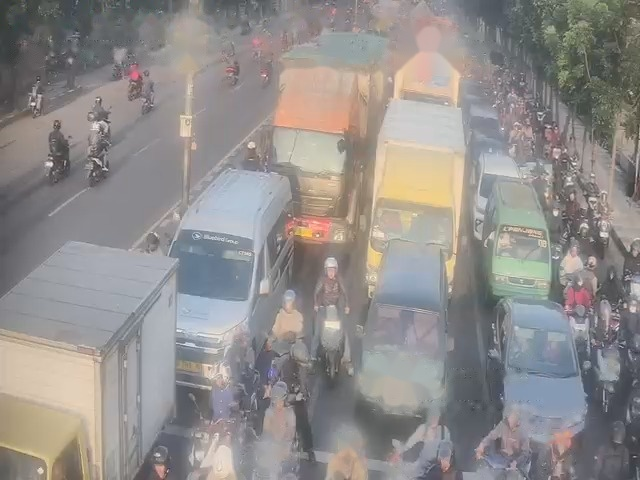Bis: (173, 164, 298, 376)
Mobil: (492, 296, 581, 444), (491, 183, 549, 296)
Motor: (318, 300, 344, 374), (597, 343, 619, 401)
Truk: (0, 234, 136, 480), (272, 55, 370, 244), (373, 108, 468, 293)
